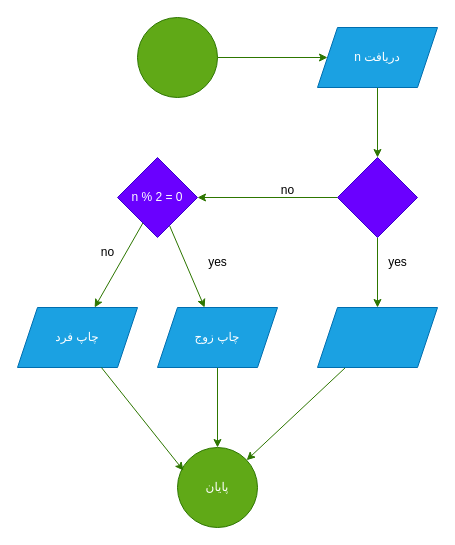
The diagram is 455 pixels wide and 545 high, and some of its shapes have lost their labels. Here are the shapes that lost their labels. From the top down, the centre of each, then its label:
At pixel 177 57: "شروع".
At pixel 377 197: "n = 0".
At pixel 377 337: "چاپ 0".
